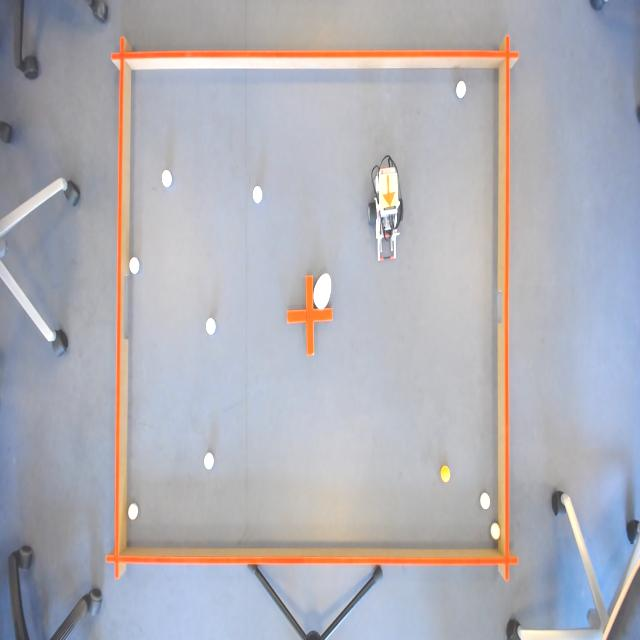cross: (286, 274, 333, 357)
egg: (312, 272, 332, 310)
orange_ball: (438, 462, 451, 486)
robot: (378, 170, 400, 206)
white_ball: (479, 488, 492, 514), (202, 449, 216, 473), (204, 315, 218, 339), (126, 501, 140, 524), (128, 254, 141, 278), (455, 78, 468, 102), (489, 521, 502, 544), (252, 184, 264, 208), (161, 167, 174, 189)
